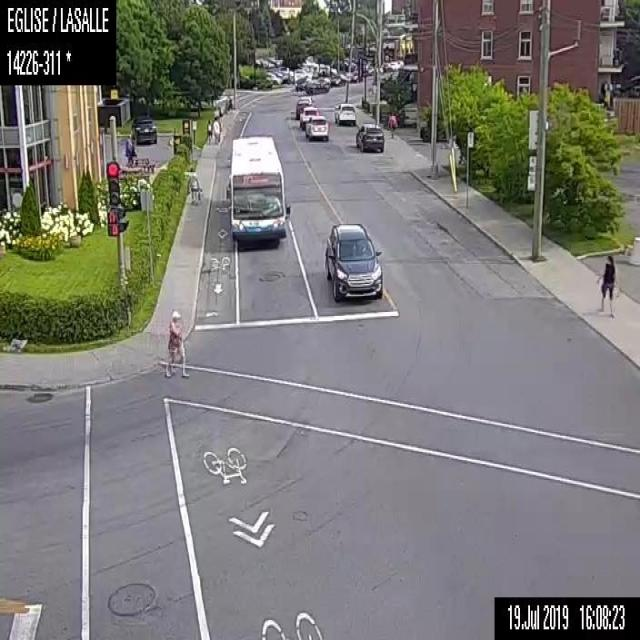bus: (229, 132, 291, 244)
pedestrian: (164, 308, 191, 379), (596, 255, 616, 317), (187, 172, 200, 204), (386, 108, 398, 140), (124, 132, 136, 164), (212, 113, 219, 148), (205, 118, 212, 141)
vehicle: (322, 220, 382, 303), (354, 124, 384, 153), (132, 115, 157, 145), (303, 115, 329, 138), (334, 101, 356, 123), (295, 96, 314, 118), (306, 77, 330, 93), (299, 103, 318, 121), (266, 72, 280, 85), (293, 75, 306, 88)
